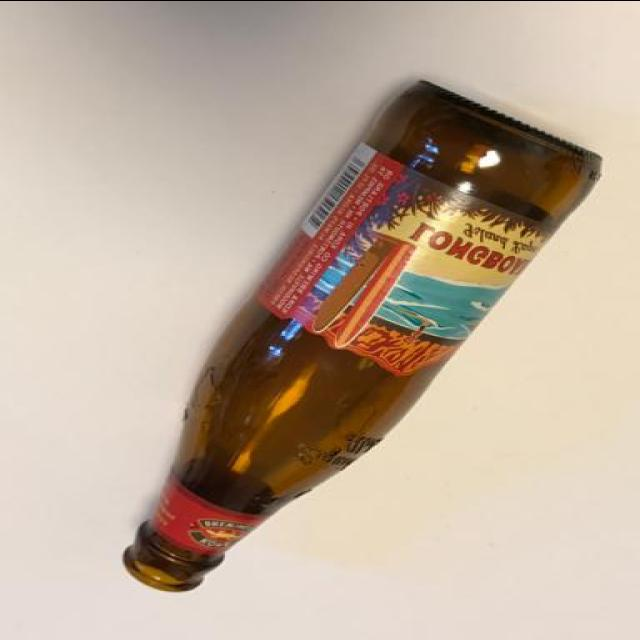glass: (110, 75, 604, 592)
